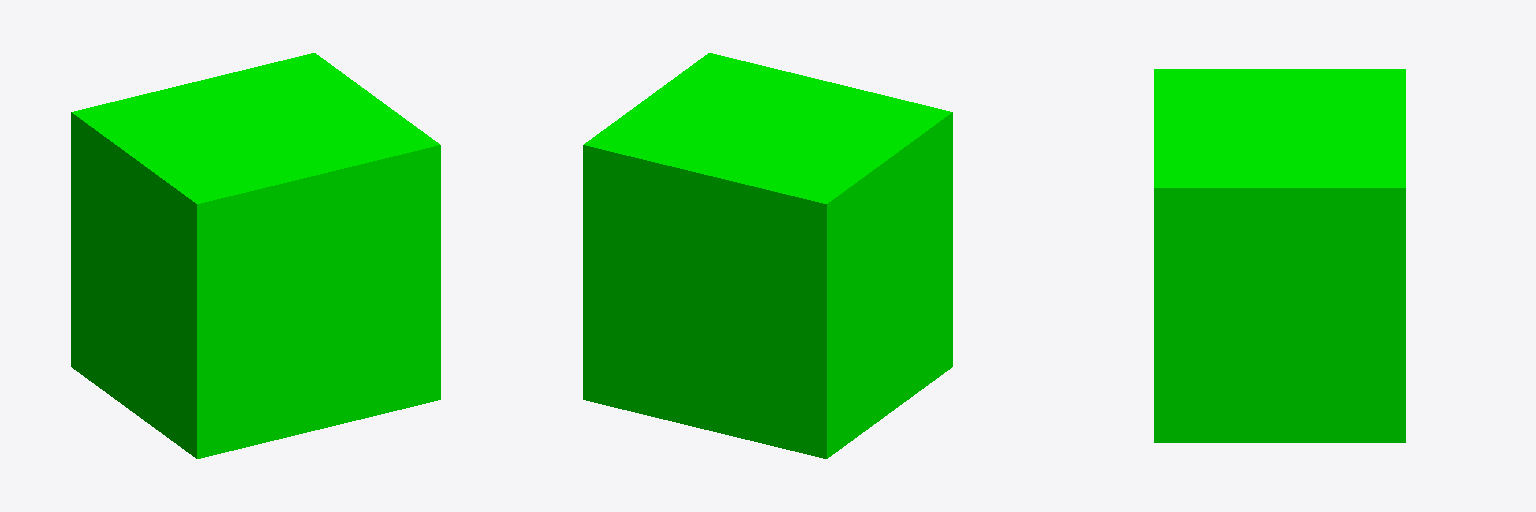
File: prt00035.obj
The picture shows the model from 3 angles: view 1: azimuth 30°, elevation 25°; view 2: azimuth 150°, elevation 25°; view 3: azimuth 270°, elevation 25°; orthographic projection.
Parts seen in each view (by area): view 1: 1; view 2: 1; view 3: 1.
Part boxes in pixels (bbox=[...]): 1: bbox=[71, 53, 440, 458]; 1: bbox=[583, 53, 952, 458]; 1: bbox=[1154, 69, 1405, 442].
Bounding box in the file's own units: 242 × 242 × 217.